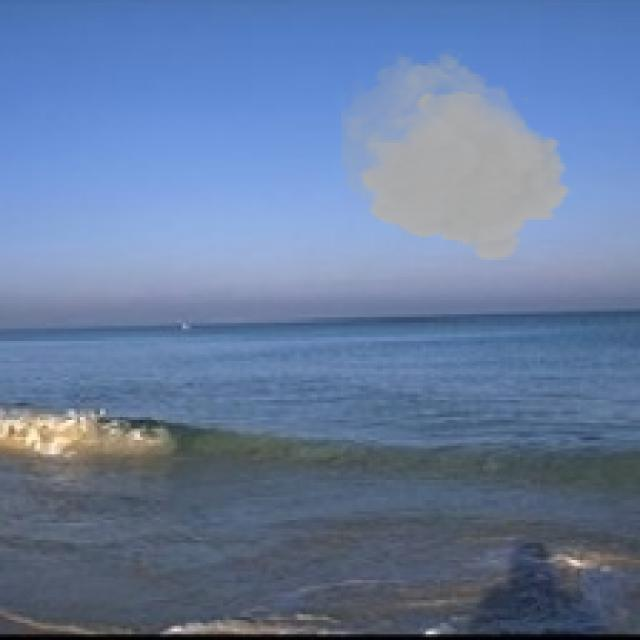Smoke: (340, 46, 574, 263)
